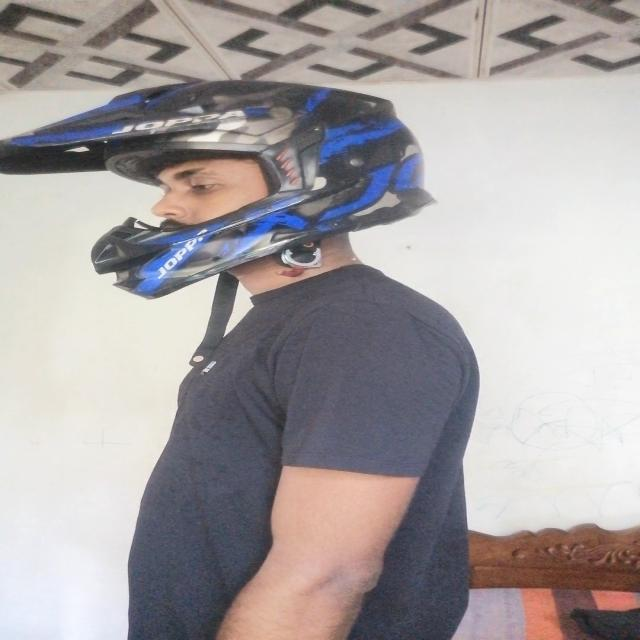Helmet_Wearer: (16, 73, 456, 312)
Person: (6, 78, 521, 640)
